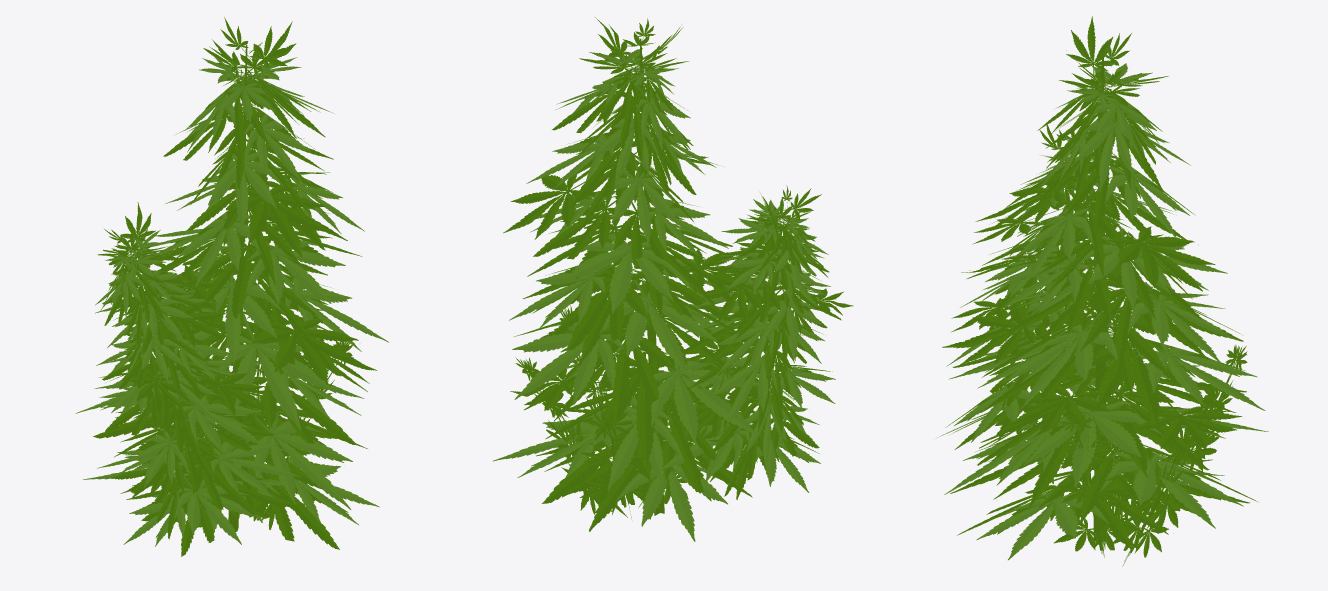
File: PT_Hemp_01.fbx
3 views of the same model, side by side, from view 1: azimuth 30°, elevation 25°; view 2: azimuth 150°, elevation 25°; view 3: azimuth 270°, elevation 25° (orthographic). The views are drawn at different scales.
Parts seen in each view (by area): view 1: PT_Hemp_01_LOD0; view 2: PT_Hemp_01_LOD0; view 3: PT_Hemp_01_LOD0.
Part boxes in pixels (box(x1,y1,x2,y2)): PT_Hemp_01_LOD0: box(75, 17, 388, 556); PT_Hemp_01_LOD0: box(493, 17, 853, 541); PT_Hemp_01_LOD0: box(937, 16, 1268, 566).
Size of what is drawn, in the model's own units: 177 by 264 by 194.
